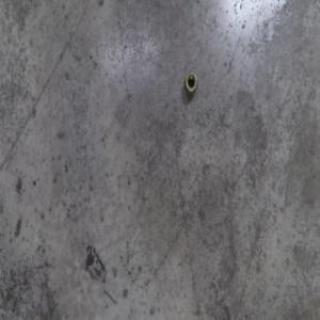Nuttrack_idkeyframe: (184, 70, 198, 96)
